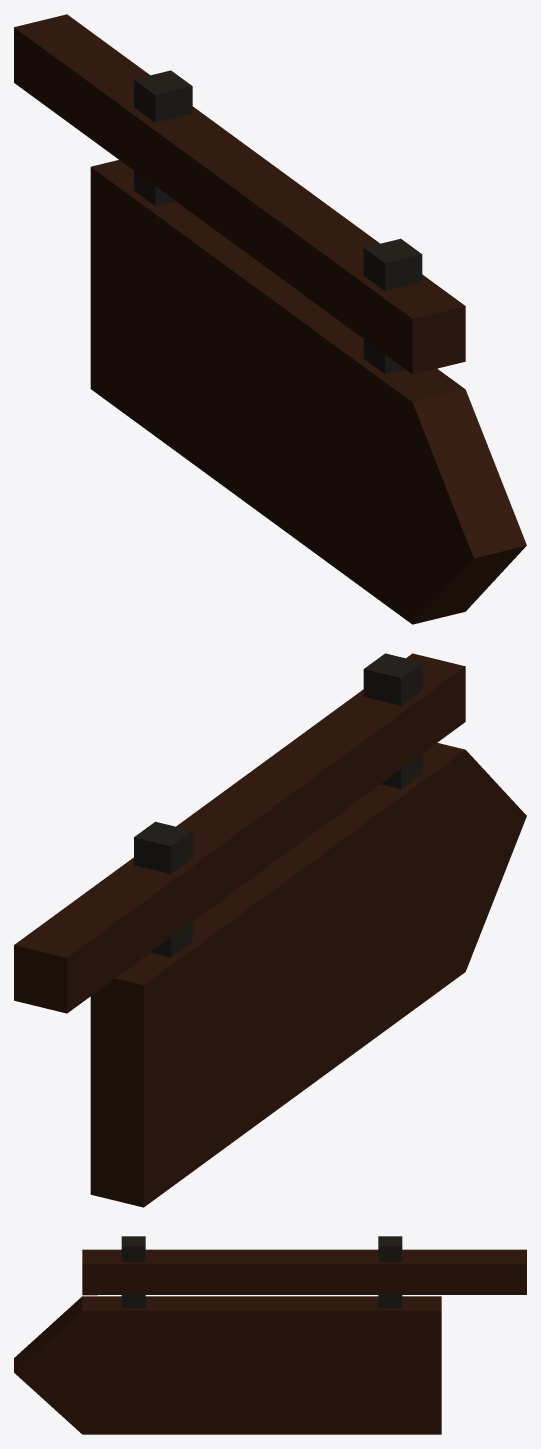
The model's file is Set-Dressing-Sign.FBX.
3 views of the same model, one above another, from view 1: azimuth 30°, elevation 25°; view 2: azimuth 150°, elevation 25°; view 3: azimuth 270°, elevation 25° (orthographic). The views are drawn at different scales.
Visible parts, largest first — view 1: Set-Dressing-Sign; view 2: Set-Dressing-Sign; view 3: Set-Dressing-Sign.
Part boxes in pixels (<box>): Set-Dressing-Sign: <box>14,14,526,624</box>; Set-Dressing-Sign: <box>14,653,526,1207</box>; Set-Dressing-Sign: <box>14,1236,526,1434</box>.
Size of the model in its own units: 1 by 6 by 15.
